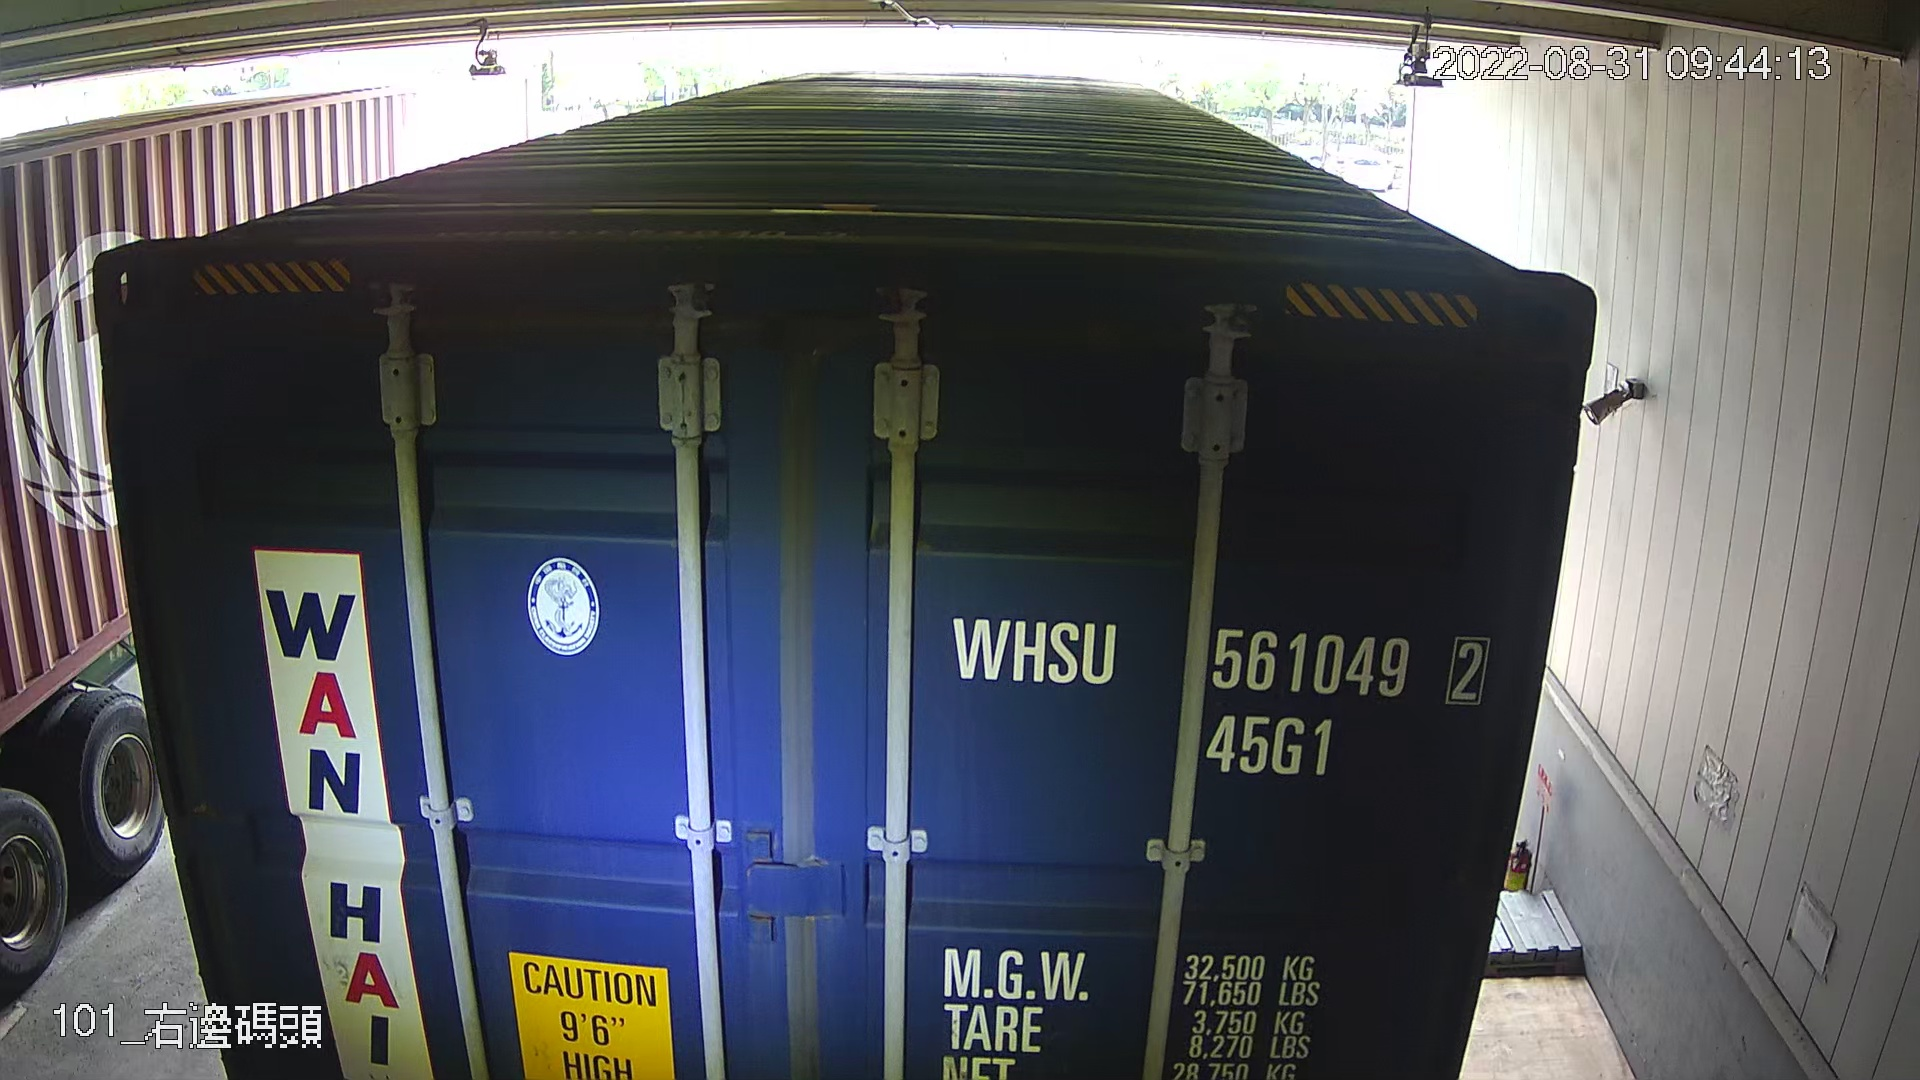container: (932, 599, 1498, 791)
